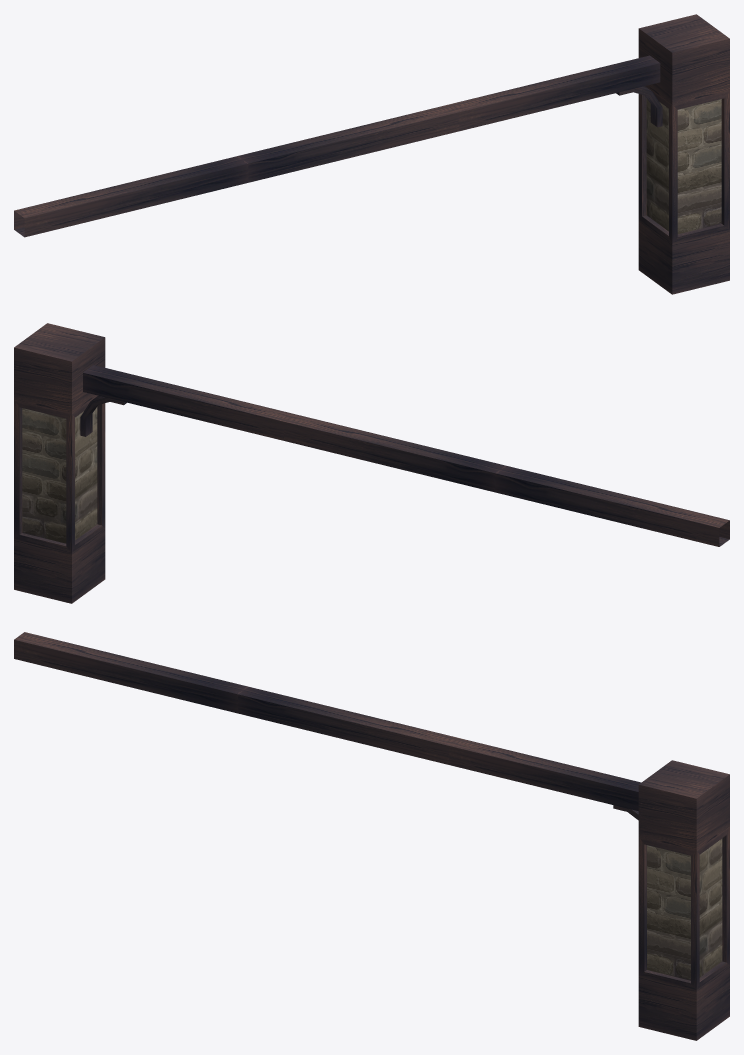
Rendered from Pillar_x3_NoEnd.fbx.
3 views of the same model, one above another, from view 1: azimuth 30°, elevation 25°; view 2: azimuth 150°, elevation 25°; view 3: azimuth 330°, elevation 25° (orthographic).
Visible parts, largest first — view 1: Pillar_x3_NoEnd; view 2: Pillar_x3_NoEnd; view 3: Pillar_x3_NoEnd.
Part boxes in pixels (bbox=[...]): Pillar_x3_NoEnd: bbox=[14, 14, 729, 294]; Pillar_x3_NoEnd: bbox=[14, 323, 729, 603]; Pillar_x3_NoEnd: bbox=[14, 632, 729, 1040].
Size of the model in its own units: 1.88 by 0.6265 by 0.1567.
